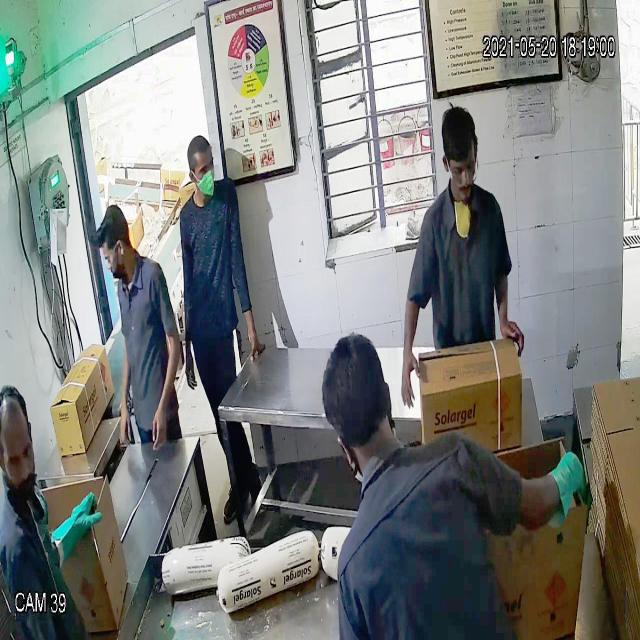glasses: (440, 150, 480, 186)
no-glass: (186, 154, 216, 180)
